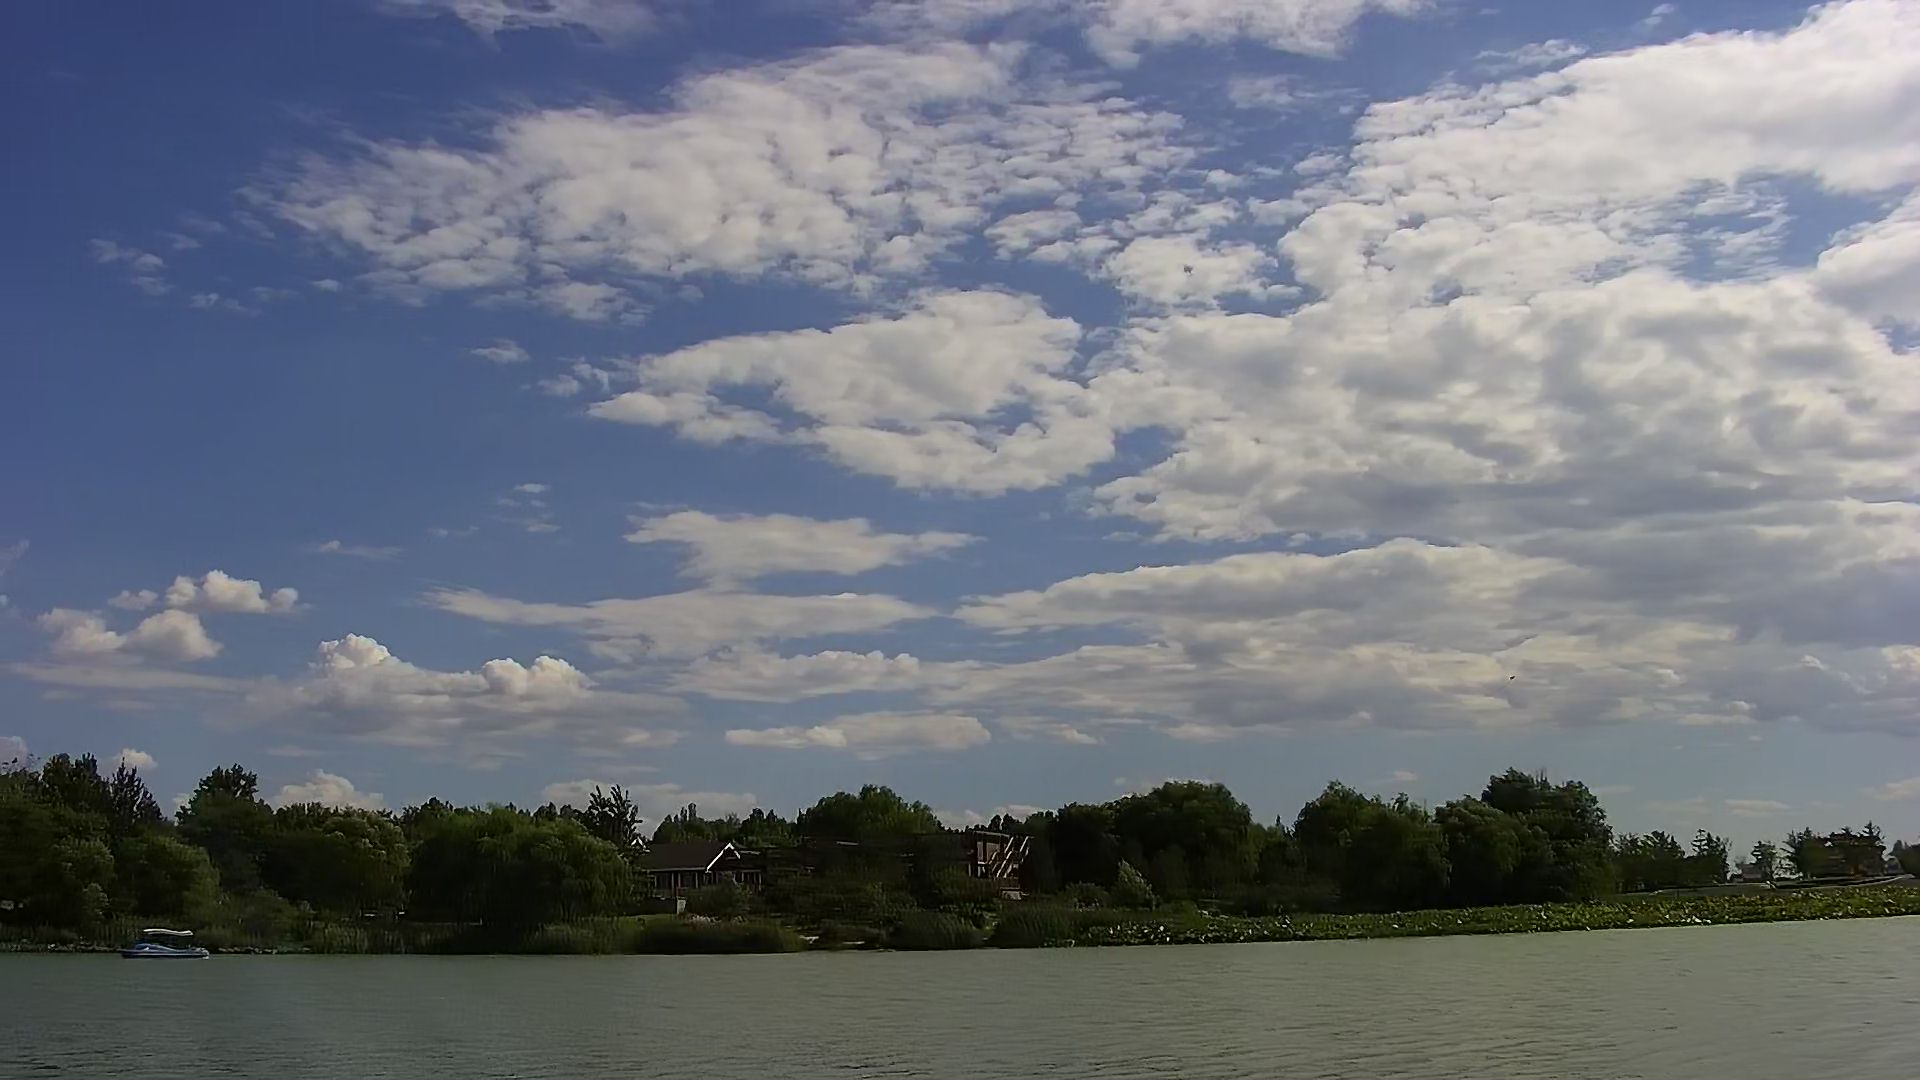boat: (113, 924, 211, 964)
